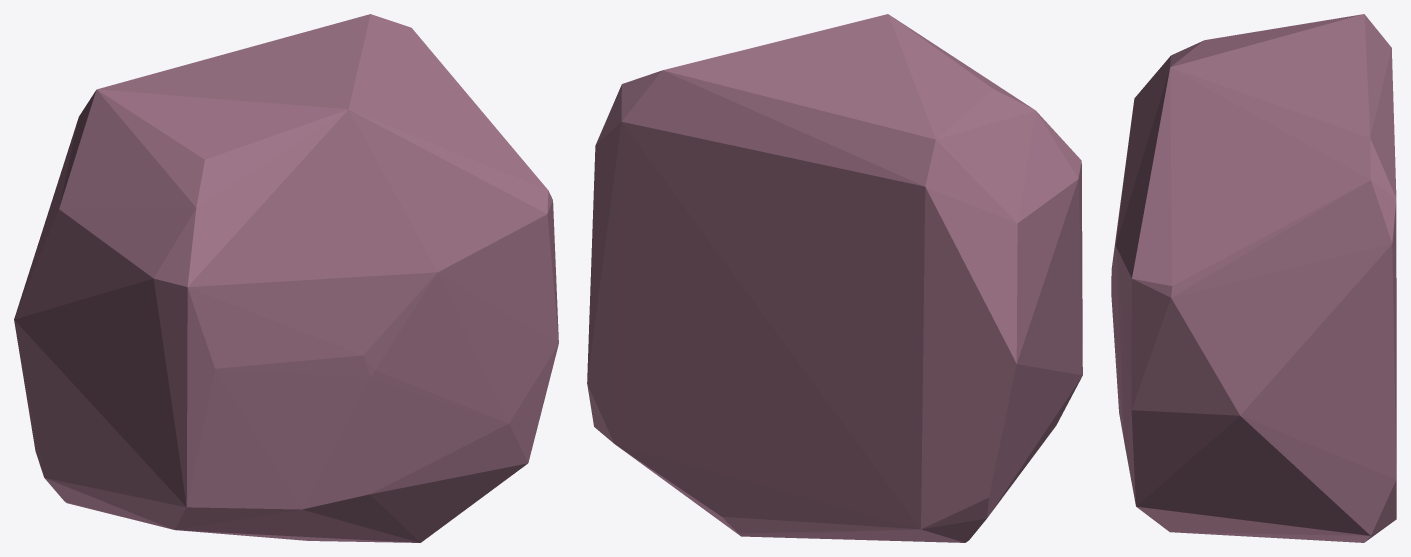
The model's file is detector_smoke_fire_a01.glb.
3 renders of one model, left to right at view 1: azimuth 30°, elevation 25°; view 2: azimuth 150°, elevation 25°; view 3: azimuth 270°, elevation 25°, orthographic. The views are drawn at different scales.
Visible parts, largest first — view 1: geometry_0; view 2: geometry_0; view 3: geometry_0.
Boxes of the visible parts, x1=… form: geometry_0: x1=14, y1=14, x2=558, y2=542; geometry_0: x1=587, y1=14, x2=1082, y2=542; geometry_0: x1=1111, y1=14, x2=1396, y2=542.
Bounding box in the file's own units: 0.4764 × 0.4651 × 0.2656.
